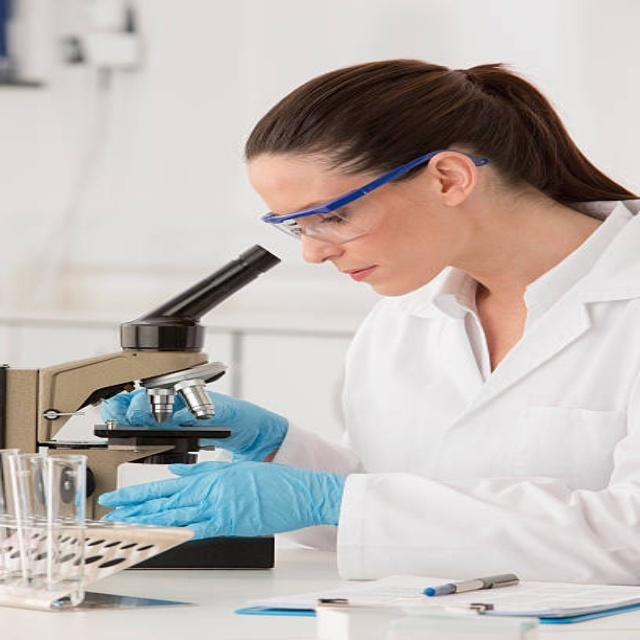Gafas: (262, 151, 485, 246)
Guantes: (101, 458, 349, 540), (103, 388, 290, 462)
Sin_mascara: (333, 258, 403, 298)
